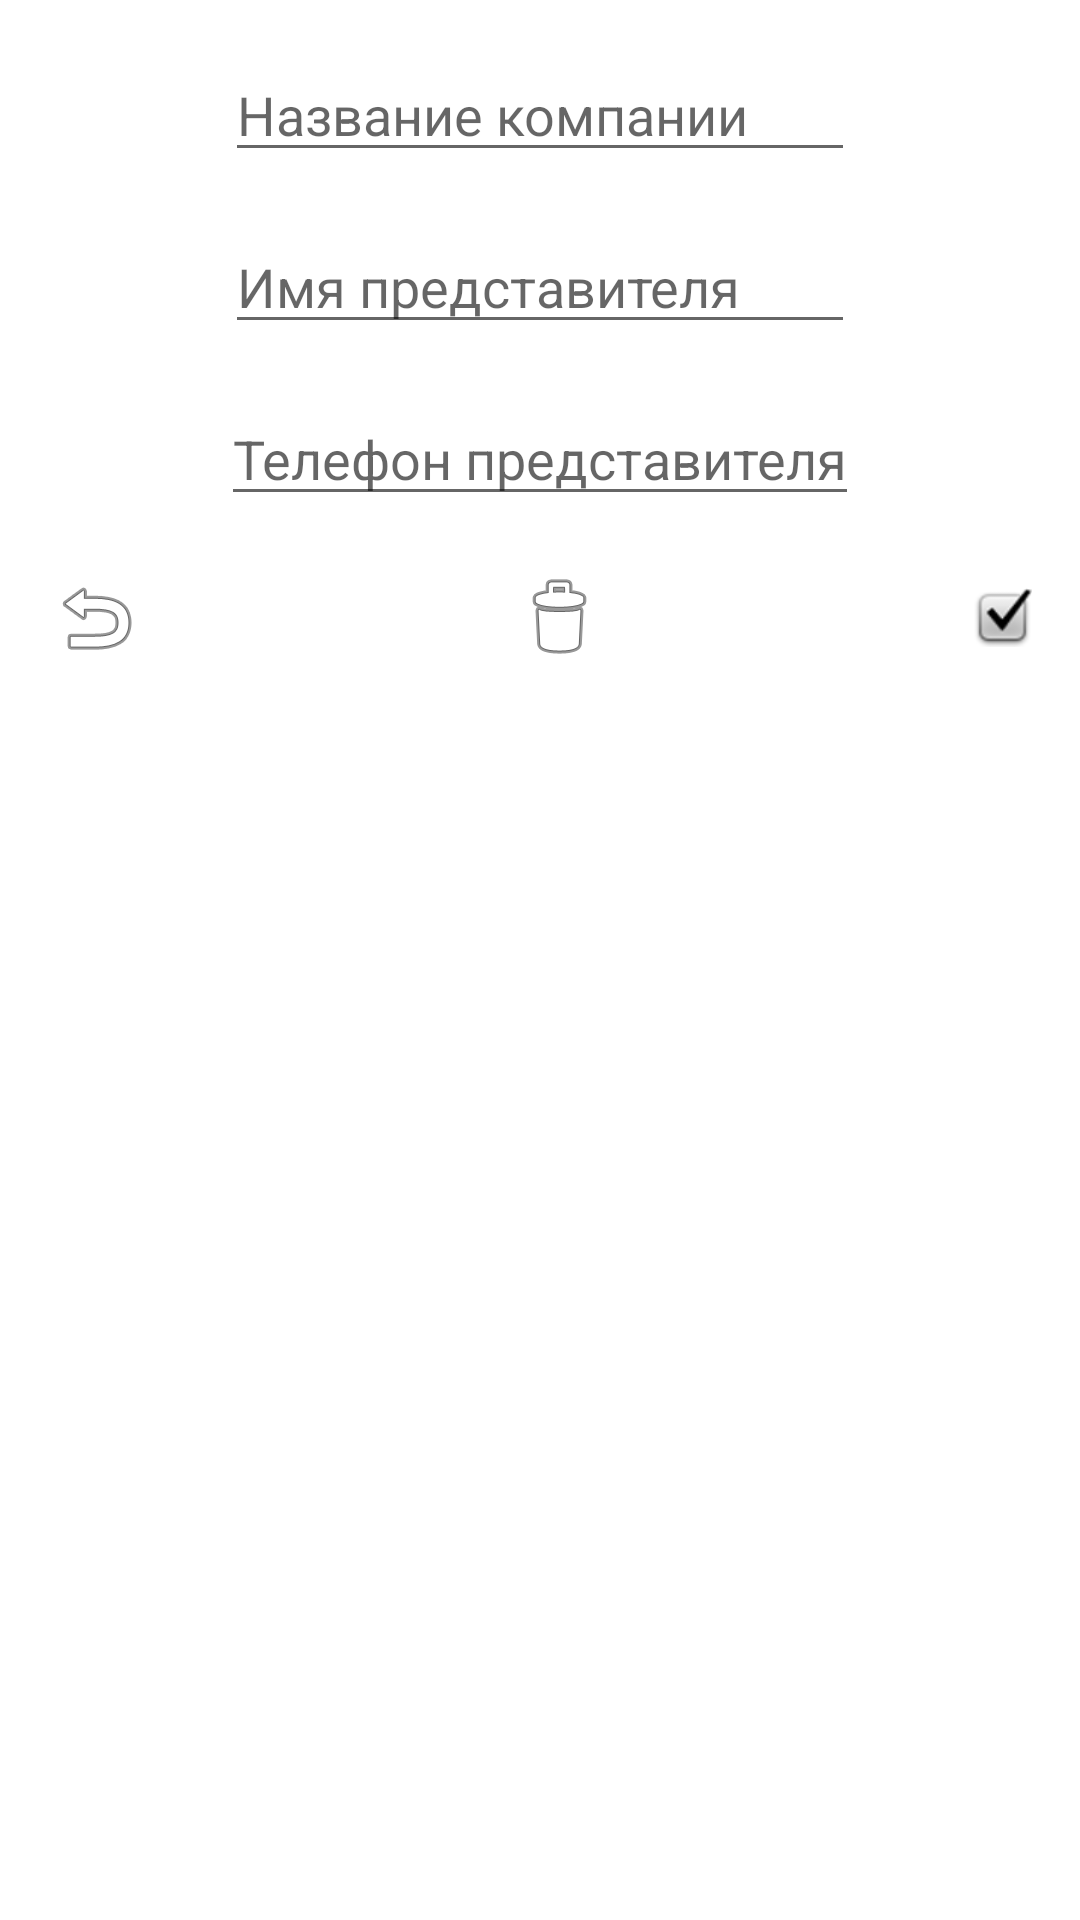

Icons on this 1080w x 1920h Android screen, each with the point to tap as point (x, y):
delete: point (559, 616)
revert: point (97, 618)
